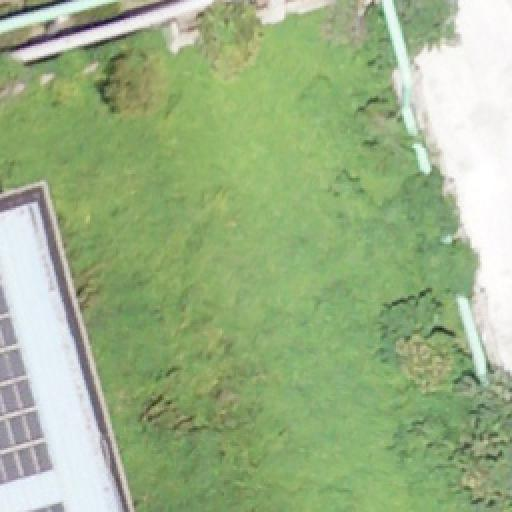solar-panel: (0, 273, 56, 487), (30, 504, 66, 512)
